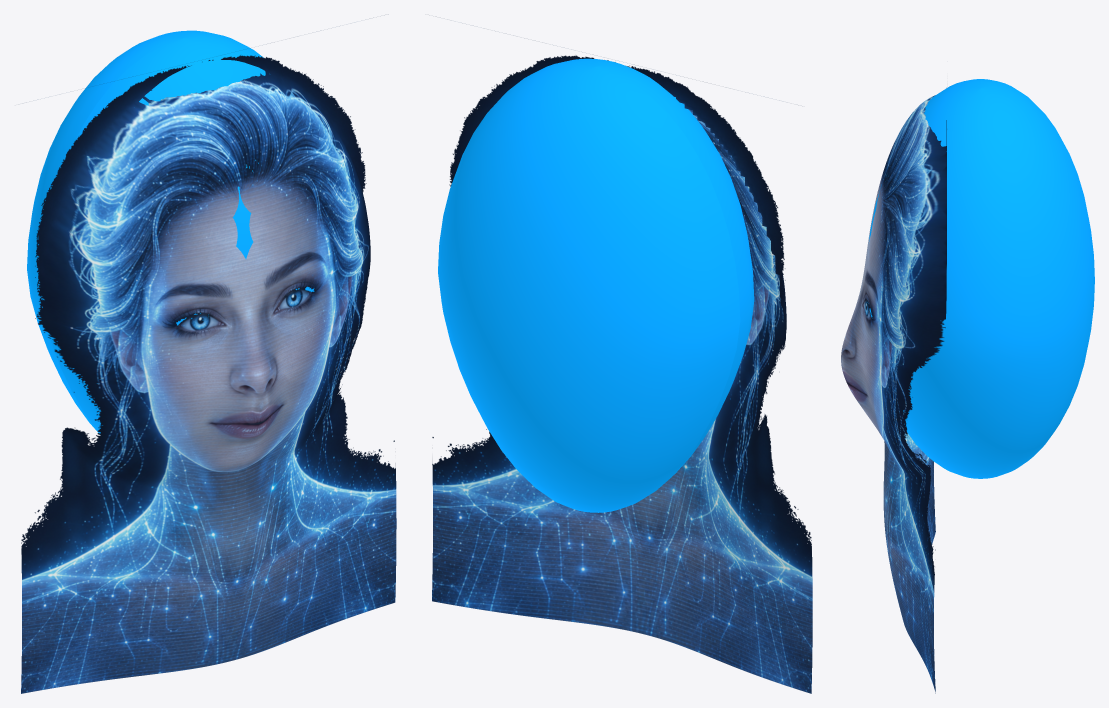
Rendered from jarvis-new-girl-live.glb.
The picture shows the model from 3 angles, left to right: view 1: azimuth 30°, elevation 25°; view 2: azimuth 150°, elevation 25°; view 3: azimuth 270°, elevation 25°; orthographic projection. The views are drawn at different scales.
Parts seen in each view (by area): view 1: PortraitRelief, BackVolume; view 2: BackVolume, PortraitRelief; view 3: BackVolume, PortraitRelief.
Boxes of the visible parts, <box> form: PortraitRelief: <box>21,55,396,693</box>; BackVolume: <box>27,30,314,433</box>; BackVolume: <box>438,58,754,512</box>; PortraitRelief: <box>432,55,812,693</box>; BackVolume: <box>867,79,1094,478</box>; PortraitRelief: <box>841,95,946,693</box>.
Bounding box in the file's own units: 2.08 × 3.14 × 1.38.
Materials: 2 (1 with a texture image).
